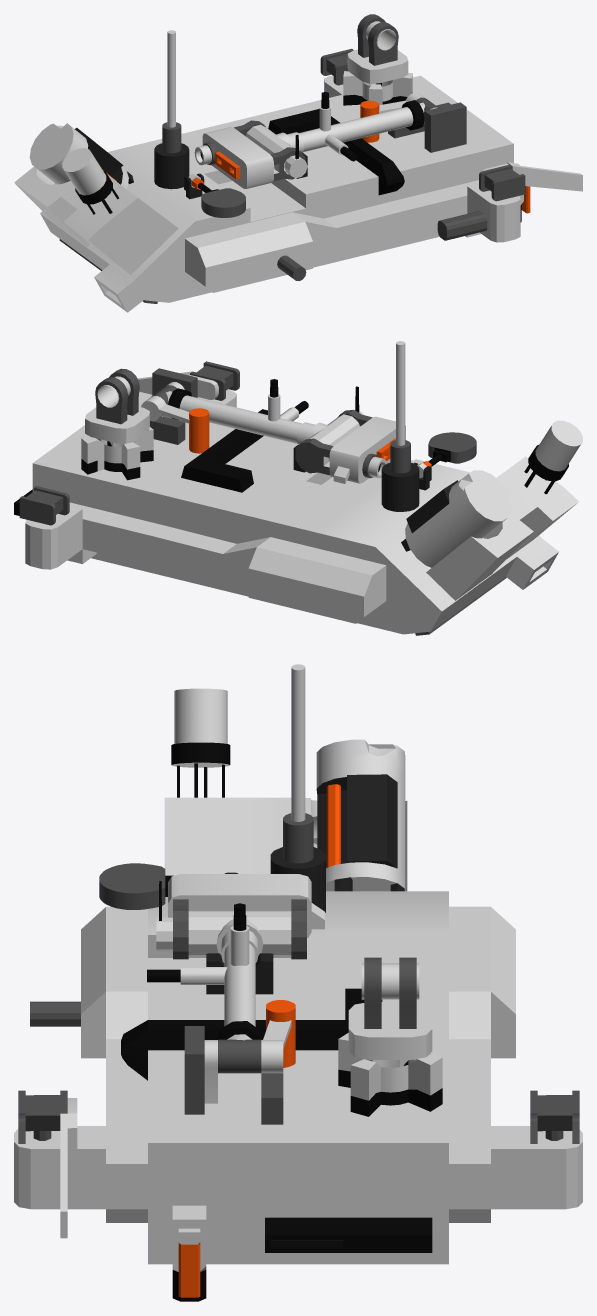
File: Cuerpo.obj
3 renders of one model, top to bottom at view 1: azimuth 30°, elevation 25°; view 2: azimuth 150°, elevation 25°; view 3: azimuth 270°, elevation 25°, orthographic. The views are drawn at different scales.
Parts seen in each view (by area): view 1: RoverModificado.001_SpacialRoverExploreralumWhite.002, RoverModificado.001_SpacialRoverExploreralumGray.002, RoverModificado.001_SpacialRoverExploreralumBlack.002, RoverModificado.001_SpacialRoverExploreralumGrayDeep.002, RoverModificado.001_SpacialRoverExploreralumOrange.002; view 2: RoverModificado.001_SpacialRoverExploreralumWhite.002, RoverModificado.001_SpacialRoverExploreralumGray.002, RoverModificado.001_SpacialRoverExploreralumBlack.002, RoverModificado.001_SpacialRoverExploreralumGrayDeep.002, RoverModificado.001_SpacialRoverExploreralumOrange.002; view 3: RoverModificado.001_SpacialRoverExploreralumWhite.002, RoverModificado.001_SpacialRoverExploreralumGray.002, RoverModificado.001_SpacialRoverExploreralumBlack.002, RoverModificado.001_SpacialRoverExploreralumGrayDeep.002, RoverModificado.001_SpacialRoverExploreralumOrange.002.
Part boxes in pixels (x1,y1,x2,y2): RoverModificado.001_SpacialRoverExploreralumWhite.002: [14, 21, 582, 312]; RoverModificado.001_SpacialRoverExploreralumGray.002: [59, 14, 525, 303]; RoverModificado.001_SpacialRoverExploreralumBlack.002: [75, 83, 521, 222]; RoverModificado.001_SpacialRoverExploreralumGrayDeep.002: [75, 128, 307, 199]; RoverModificado.001_SpacialRoverExploreralumOrange.002: [103, 100, 530, 213]; RoverModificado.001_SpacialRoverExploreralumWhite.002: [25, 341, 582, 634]; RoverModificado.001_SpacialRoverExploreralumGray.002: [19, 361, 506, 635]; RoverModificado.001_SpacialRoverExploreralumBlack.002: [14, 379, 568, 515]; RoverModificado.001_SpacialRoverExploreralumGrayDeep.002: [293, 445, 458, 551]; RoverModificado.001_SpacialRoverExploreralumOrange.002: [189, 408, 431, 467]; RoverModificado.001_SpacialRoverExploreralumWhite.002: [14, 664, 582, 1271]; RoverModificado.001_SpacialRoverExploreralumGray.002: [18, 813, 579, 1143]; RoverModificado.001_SpacialRoverExploreralumBlack.002: [121, 742, 442, 1301]; RoverModificado.001_SpacialRoverExploreralumGrayDeep.002: [206, 774, 404, 1240]; RoverModificado.001_SpacialRoverExploreralumOrange.002: [178, 784, 340, 1297].
Bounding box in the file's own units: 10.6 × 5.1 × 6.8.
